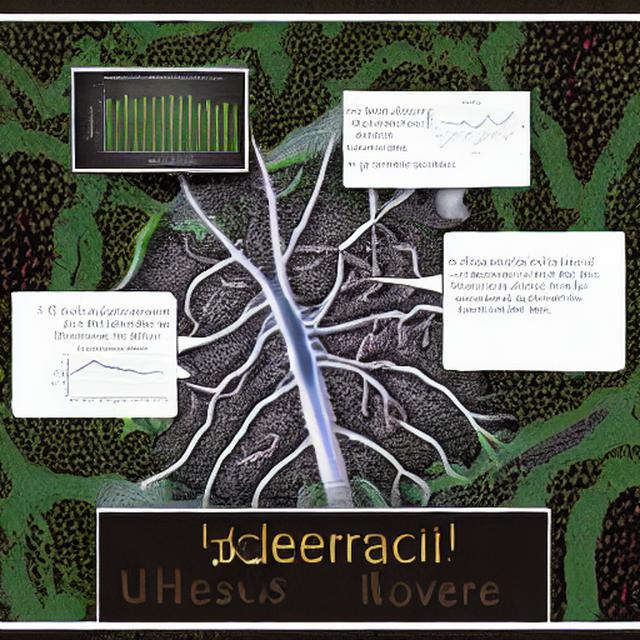Graph: (86, 73, 244, 168), (56, 346, 167, 409), (423, 98, 520, 157)
